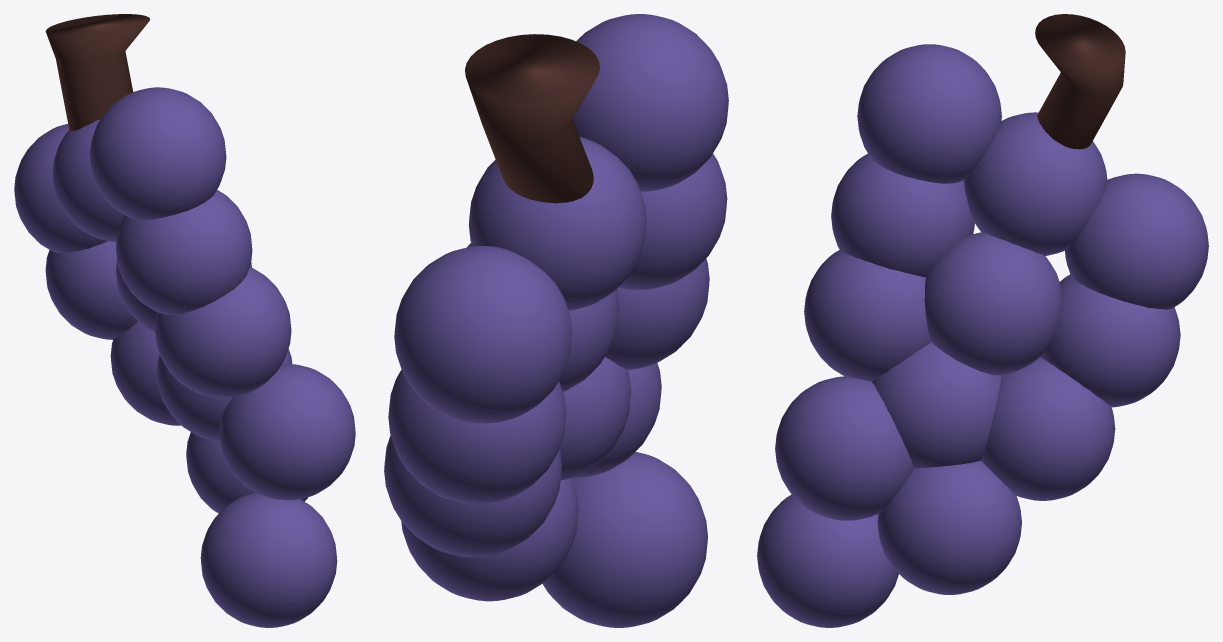
3 renders of one model, left to right at view 1: azimuth 30°, elevation 25°; view 2: azimuth 150°, elevation 25°; view 3: azimuth 270°, elevation 25°, orthographic. The views are drawn at different scales.
Visible parts, largest first — view 1: Sphere.011_13, Sphere_2, Sphere.009_11, Sphere.001_3, Sphere.004_6, Cylinder_14, Sphere.007_9, Sphere.006_8, Sphere.002_4, Sphere.008_10, Sphere.010_12, Sphere.005_7 (+1 smaller); view 2: Sphere.006_8, Sphere.011_13, Sphere_2, Cylinder_14, Sphere.002_4, Sphere.007_9, Sphere.008_10, Sphere.010_12, Sphere.001_3, Sphere.004_6, Sphere.005_7, Sphere.003_5 (+1 smaller); view 3: Sphere_2, Sphere.003_5, Sphere.009_11, Sphere.010_12, Sphere.006_8, Sphere.002_4, Sphere.008_10, Sphere.011_13, Sphere.004_6, Sphere.001_3, Sphere.007_9, Sphere.005_7 (+1 smaller).
Boxes of the visible parts, <box> form: Sphere.011_13: <box>200,493,337,627</box>; Sphere_2: <box>90,87,226,219</box>; Sphere.009_11: <box>219,364,355,500</box>; Sphere.001_3: <box>116,190,252,315</box>; Sphere.004_6: <box>155,267,291,397</box>; Cylinder_14: <box>45,14,149,131</box>; Sphere.007_9: <box>45,241,137,339</box>; Sphere.006_8: <box>14,124,107,253</box>; Sphere.002_4: <box>52,119,124,242</box>; Sphere.008_10: <box>110,322,180,425</box>; Sphere.010_12: <box>186,432,308,513</box>; Sphere.005_7: <box>157,349,292,441</box>; Sphere.006_8: <box>394,246,572,423</box>; Sphere.011_13: <box>543,451,707,627</box>; Sphere_2: <box>572,14,728,191</box>; Cylinder_14: <box>465,34,599,203</box>; Sphere.002_4: <box>469,136,646,310</box>; Sphere.007_9: <box>388,370,566,504</box>; Sphere.008_10: <box>384,435,561,557</box>; Sphere.010_12: <box>401,478,578,601</box>; Sphere.001_3: <box>618,153,727,289</box>; Sphere.004_6: <box>605,259,709,370</box>; Sphere.005_7: <box>560,357,631,480</box>; Sphere.003_5: <box>467,243,618,391</box>; Sphere_2: <box>857,44,1001,183</box>; Sphere.003_5: <box>924,232,1062,375</box>; Sphere.009_11: <box>775,376,914,520</box>; Sphere.010_12: <box>877,461,1021,594</box>; Sphere.006_8: <box>1065,173,1208,309</box>; Sphere.002_4: <box>964,112,1107,255</box>; Sphere.008_10: <box>981,357,1115,500</box>; Sphere.011_13: <box>757,494,898,627</box>; Sphere.004_6: <box>804,250,930,381</box>; Sphere.001_3: <box>831,153,974,277</box>; Sphere.007_9: <box>1040,274,1180,407</box>; Sphere.005_7: <box>872,342,1001,468</box>.
Size of the model in its own units: 3.79 by 8.58 by 6.25.
